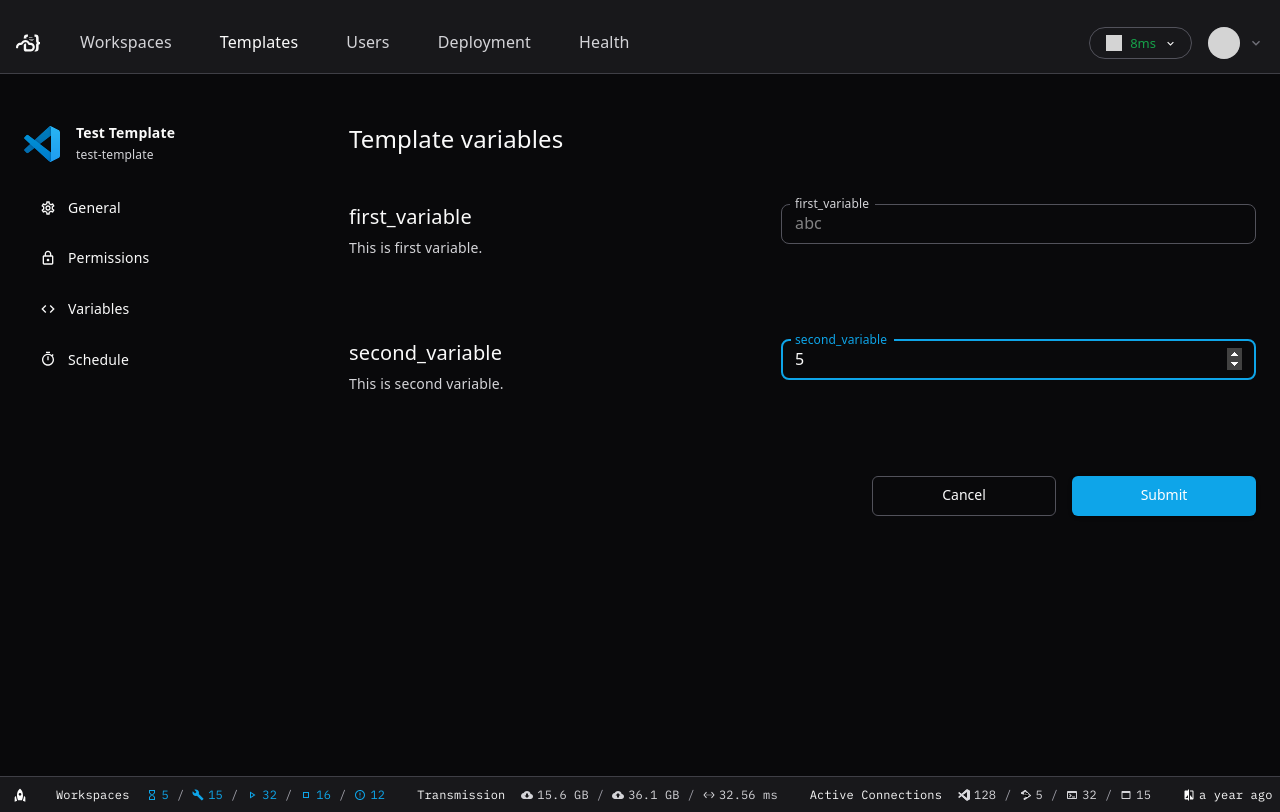
Test: TemplateVariablesPage › user submits the form successfully
Expected: the number field labelled "second_variable" is shown, [781,332,1256,388]
Type "Hello world" into the field labelled "first_variable".
click(1018, 224); type("Hello world")  # box [781,196,1256,252]
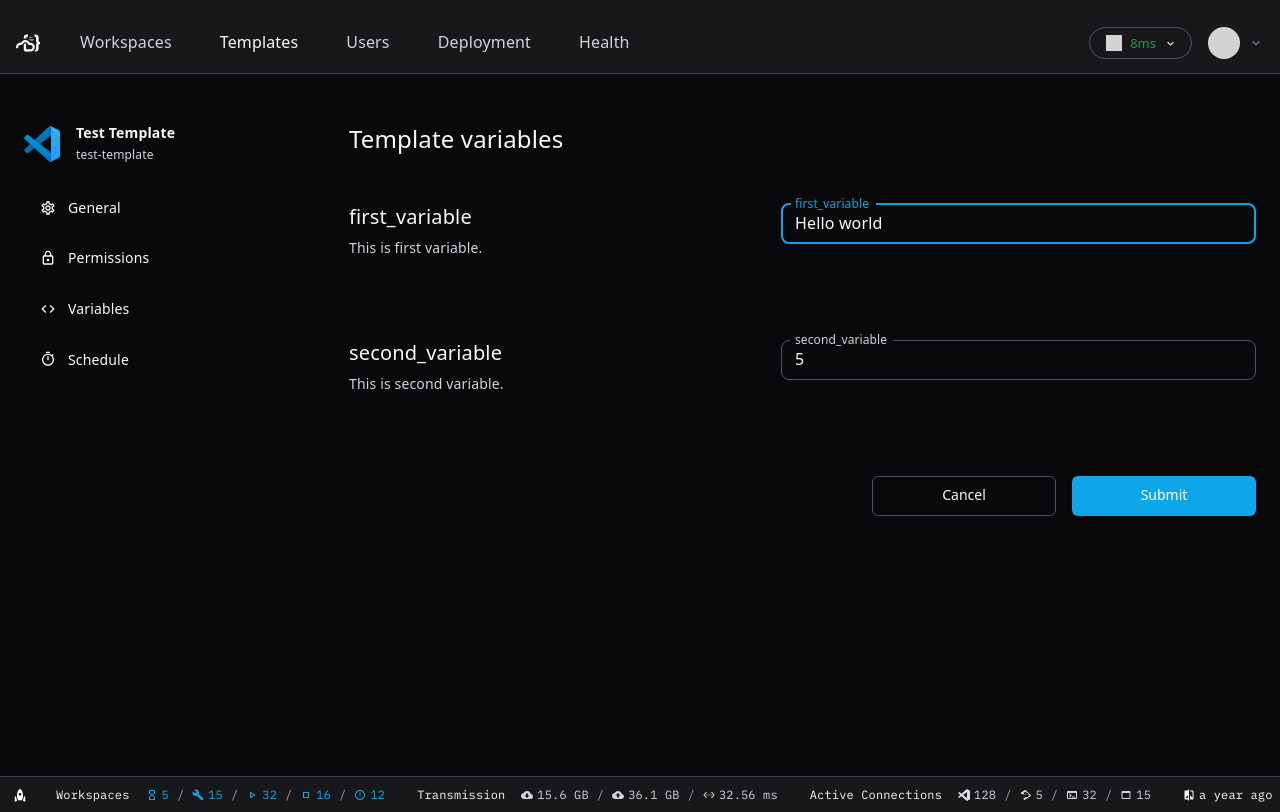
Replace the text in the number field labelled "second_variable" with "123" at {"x": 1018, "y": 360}, box [781,332,1256,388]
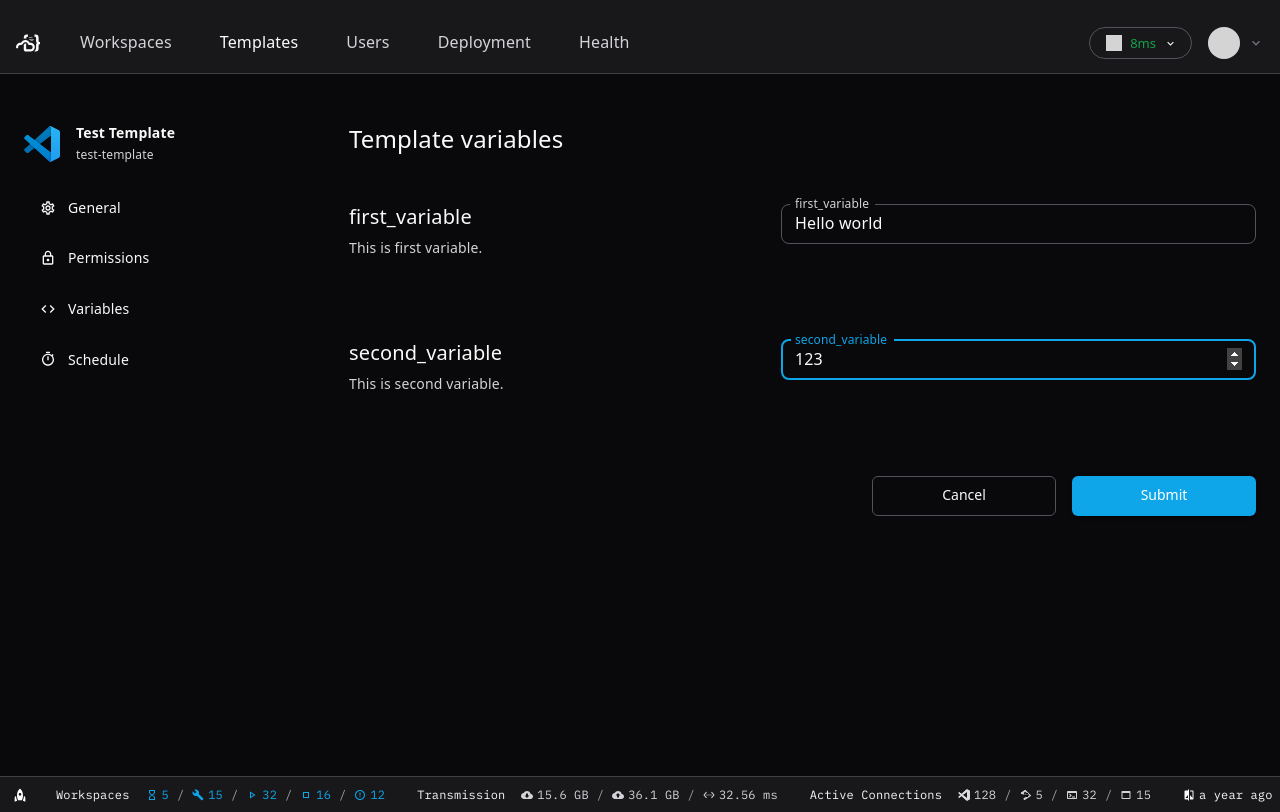
Click the button "Submit".
click(1164, 496)  # box [1072,476,1256,516]
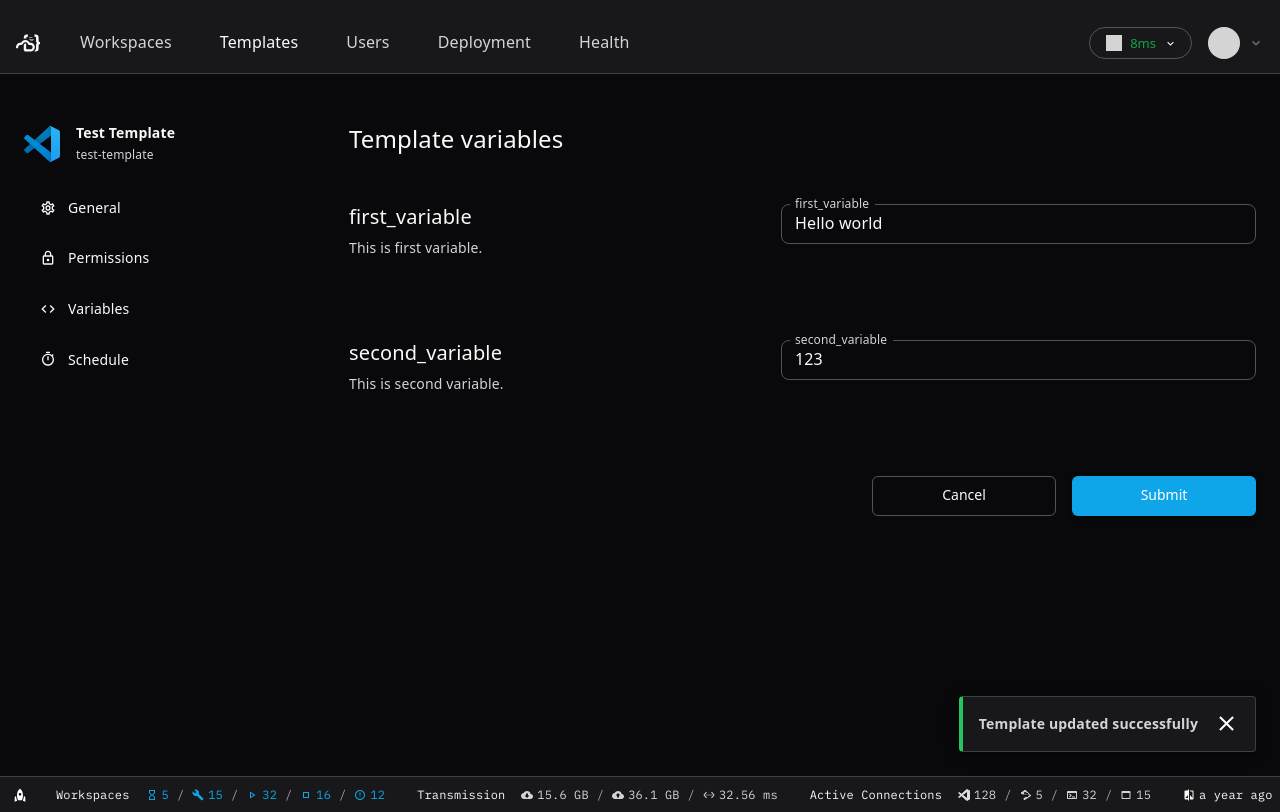
Result: the text "Template updated successfully" is shown at [979,714,1198,733]
